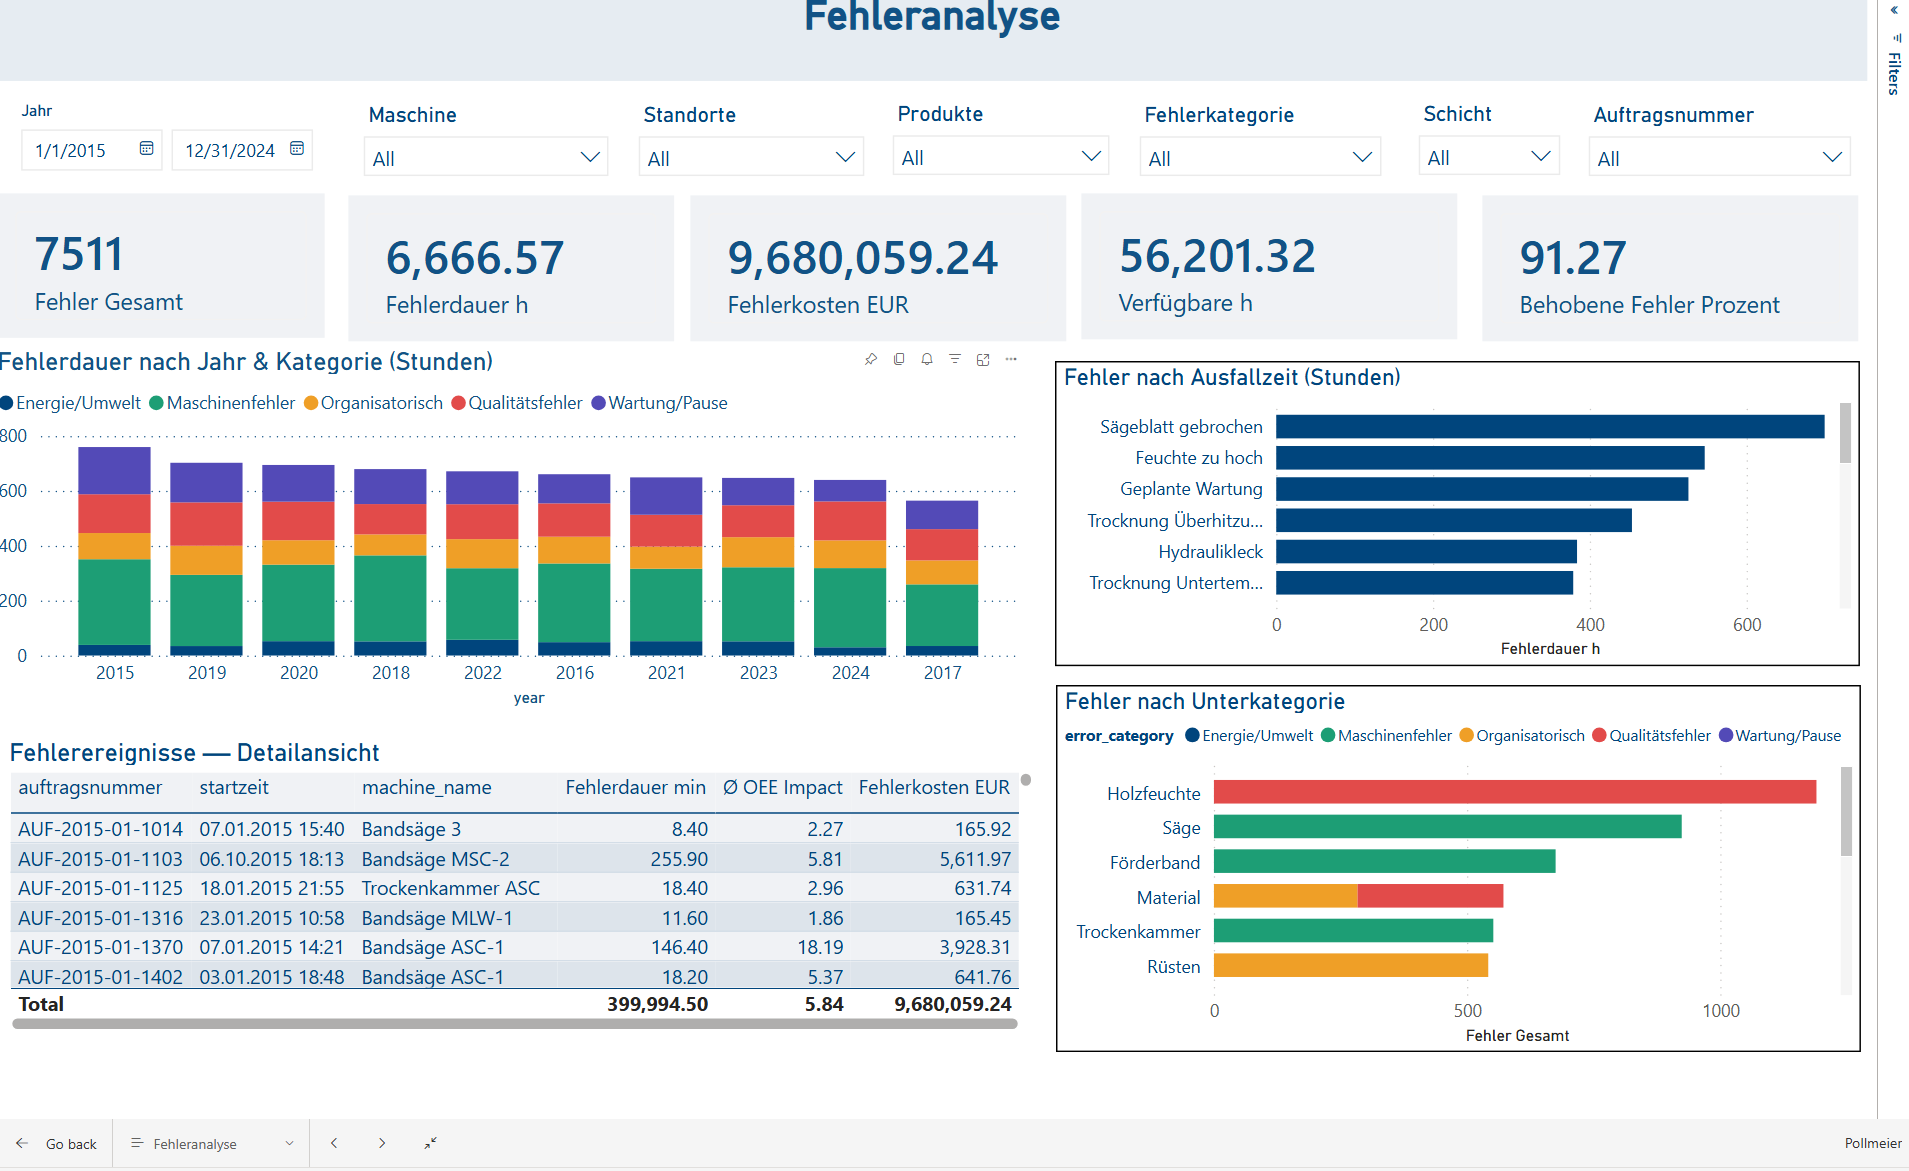

What the dashboard file says about the page in this screenshot:
{"tool":"powerbi","page":{"name":"Fehleranalyse","canvas":[1280,720],"ordinal":2},"visuals":[{"type":"barChart","title":" Fehler nach Ausfallzeit (Stunden)","fields":{"Category":["DIM_ErrorType.error_name"],"Y":["_Measures.Fehlerdauer h"]},"box":[722.7,250.7,546.3,206.9],"z":0,"group":"g2"},{"type":"barChart","title":"Fehler nach Unterkategorie","fields":{"Y":["_Measures.Fehler Gesamt"],"Category":["DIM_ErrorType.error_subcategory"],"Series":["DIM_ErrorType.error_category"]},"box":[723,471,546.3,249],"z":0,"group":"g1"},{"type":"slicer","fields":{"Values":["DIM_Shift.shift_name"]},"box":[1074.6,70.7,197.9,61.8],"z":2000},{"type":"textbox","title":"Fehleranalyse","box":[5.3,0,1268,61.2],"z":3000},{"type":"tableEx","title":"Fehlerereignisse — Detailansicht","fields":{"Values":["FACT_Errors.auftragsnummer","FACT_Errors.startzeit","DIM_Machine.machine_name","_Measures.Fehlerdauer min","_Measures.Ø OEE Impact","_Measures.Fehlerkosten EUR"]},"box":[8.1,506,703.9,204.2],"z":4000},{"type":"group","id":"g1","title":"Gruppe 1","box":[723,471,546.3,249],"z":6000},{"type":"slicer","fields":{"Values":["DIM_Site.site_name"]},"box":[429.9,70.7,172.8,62.7],"z":8000},{"type":"cardVisual","fields":{"Data":["_Measures.Fehler Gesamt"]},"box":[0,132.5,232.8,108.4],"z":10000},{"type":"columnChart","title":"Fehlerdauer nach Jahr & Kategorie (Stunden)","fields":{"Category":["DIM_Date.year"],"Y":["_Measures.Fehlerdauer h"],"Series":["DIM_ErrorType.error_category"]},"box":[0,240.9,701.2,249],"z":11000},{"type":"slicer","fields":{"Values":["DIM_Product.product_family"]},"box":[602.7,69.9,167.5,62.7],"z":12000},{"type":"cardVisual","fields":{"Data":["_Measures.Fehlerkosten EUR"]},"box":[470.1,133.4,265.1,109.3],"z":13000},{"type":"cardVisual","fields":{"Data":["_Measures.Fehlerdauer h"]},"box":[238.2,133.4,231.9,109.3],"z":14000},{"type":"cardVisual","fields":{"Data":["_Measures.Verfügbare h"]},"box":[735.2,132.5,265.1,109.3],"z":15000},{"type":"cardVisual","fields":{"Data":["_Measures.Behobene Fehler Prozent"]},"box":[1007.5,133.4,265.1,109.3],"z":16000},{"type":"slicer","fields":{"Values":["DIM_Date.date"]},"box":[8.1,69.9,230.1,62.7],"z":16001},{"type":"slicer","fields":{"Values":["DIM_Machine.machine_name"]},"box":[243.6,70.7,186.3,61.8],"z":16002},{"type":"slicer","fields":{"Values":["DIM_ErrorType.error_category"]},"box":[770.1,70.7,183.6,62.7],"z":16003},{"type":"slicer","fields":{"Values":["DIM_Shift.shift_name"]},"box":[959.1,69.9,115.5,62.7],"z":16004},{"type":"group","id":"g2","title":"Gruppe 1","box":[722.7,250.7,546.3,206.9],"z":16005}]}

Visuals, with their boxes on the page's 1280x720 design canvas (x1, y1, x2, y2). These are canvas units, not pixel positions in the 1909x1171 screenshot, which may show the page scaled, cropped or inside an application window:
" Fehler nach Ausfallzeit (Stunden)" barChart: [723, 251, 1269, 458]
"Fehler nach Unterkategorie" barChart: [723, 471, 1269, 720]
slicer - DIM_Shift.shift_name: [1075, 71, 1272, 132]
"Fehleranalyse" textbox: [5, 0, 1273, 61]
"Fehlerereignisse — Detailansicht" tableEx: [8, 506, 712, 710]
"Gruppe 1" group: [723, 471, 1269, 720]
slicer - DIM_Site.site_name: [430, 71, 603, 133]
cardVisual - _Measures.Fehler Gesamt: [0, 132, 233, 241]
"Fehlerdauer nach Jahr & Kategorie (Stunden)" columnChart: [0, 241, 701, 490]
slicer - DIM_Product.product_family: [603, 70, 770, 133]
cardVisual - _Measures.Fehlerkosten EUR: [470, 133, 735, 243]
cardVisual - _Measures.Fehlerdauer h: [238, 133, 470, 243]
cardVisual - _Measures.Verfügbare h: [735, 132, 1000, 242]
cardVisual - _Measures.Behobene Fehler Prozent: [1008, 133, 1273, 243]
slicer - DIM_Date.date: [8, 70, 238, 133]
slicer - DIM_Machine.machine_name: [244, 71, 430, 132]
slicer - DIM_ErrorType.error_category: [770, 71, 954, 133]
slicer - DIM_Shift.shift_name: [959, 70, 1075, 133]
"Gruppe 1" group: [723, 251, 1269, 458]
